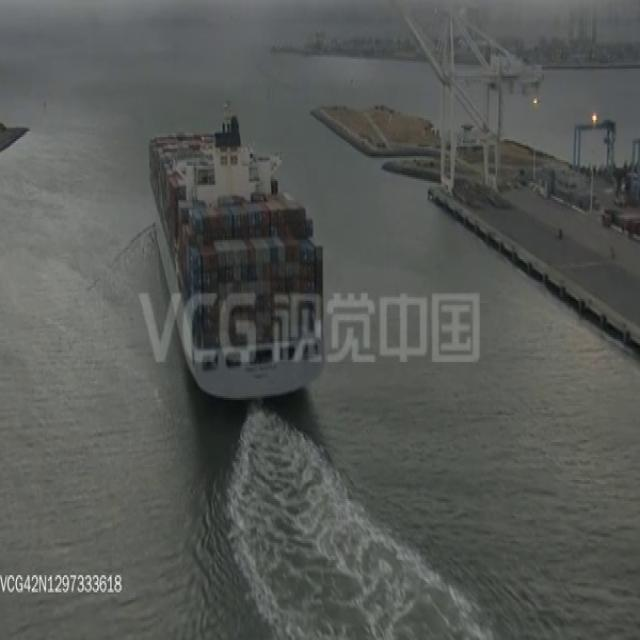cargoship: (148, 109, 323, 401)
